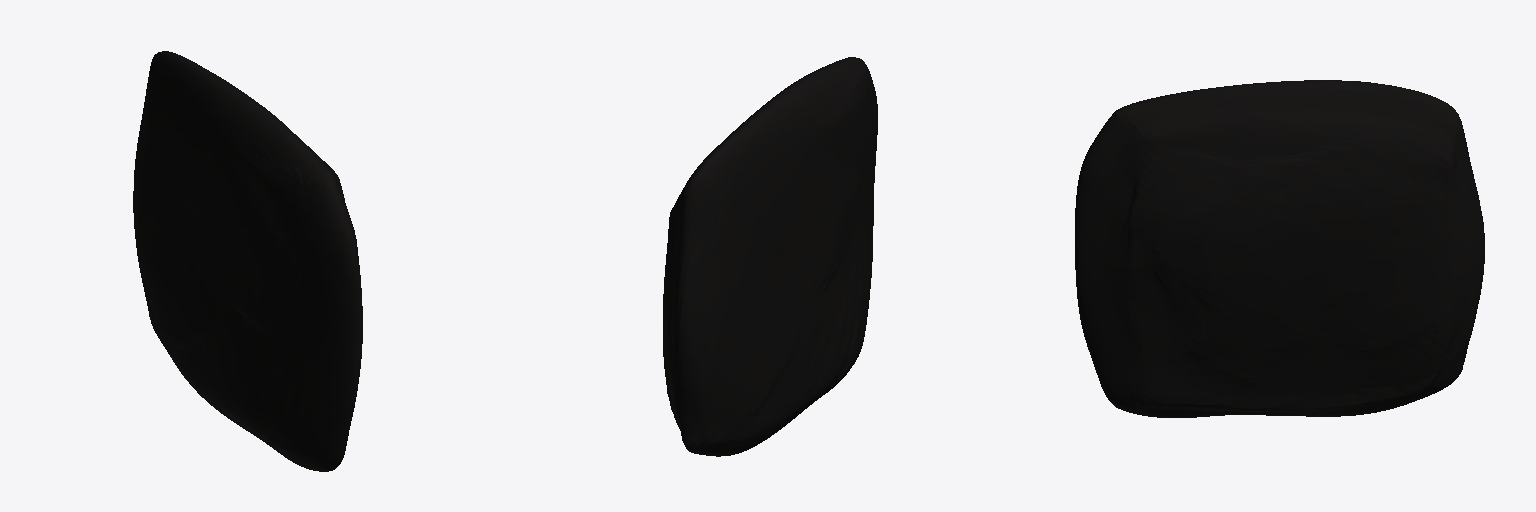
File: 2pplate.obj
The picture shows the model from 3 angles: view 1: azimuth 30°, elevation 25°; view 2: azimuth 150°, elevation 25°; view 3: azimuth 270°, elevation 25°; orthographic projection.
Visible parts, largest first — view 1: Cube.005_Cube.017; view 2: Cube.005_Cube.017; view 3: Cube.005_Cube.017.
Boxes of the visible parts, x1,y1,x2,y2 form: Cube.005_Cube.017: [133, 51, 362, 471]; Cube.005_Cube.017: [663, 57, 877, 456]; Cube.005_Cube.017: [1075, 80, 1484, 417].
Bounding box in the file's own units: 0.4588 × 1.97 × 2.2.